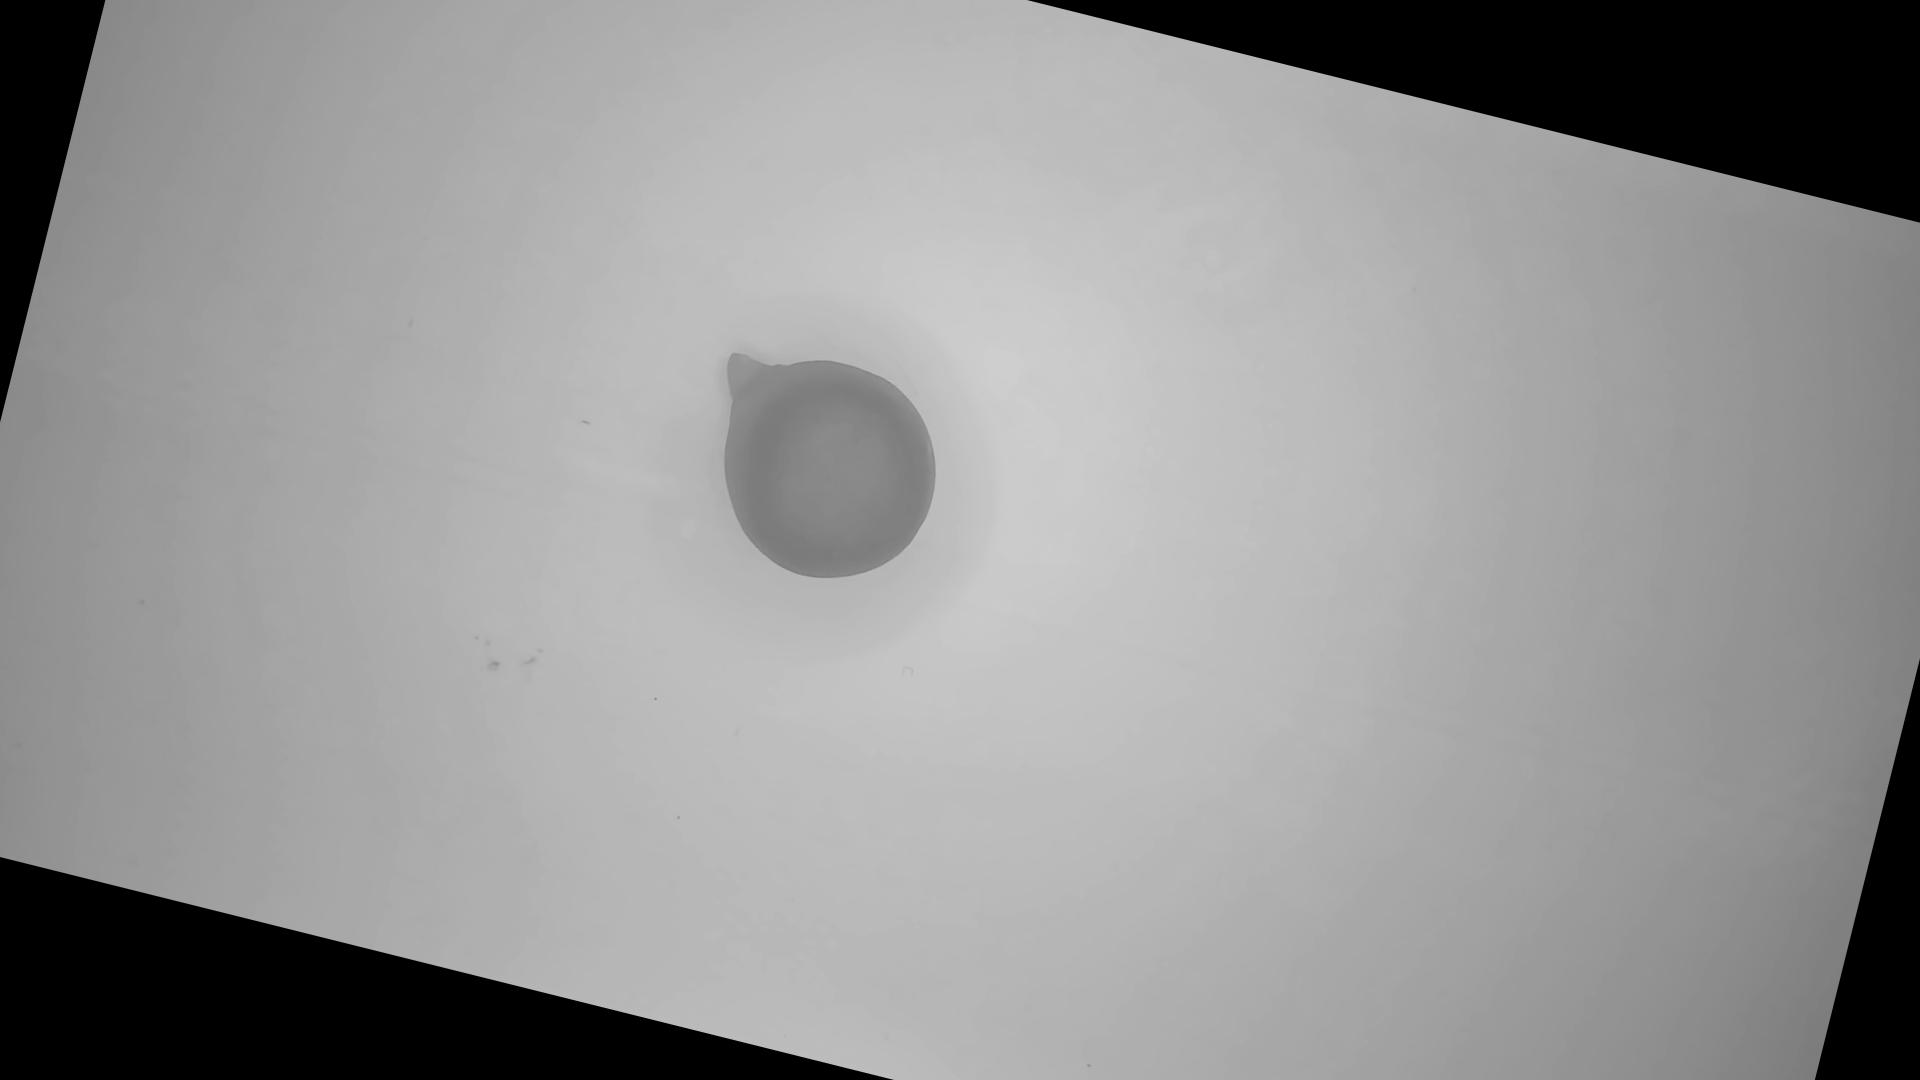abnormal: (680, 332, 963, 605)
